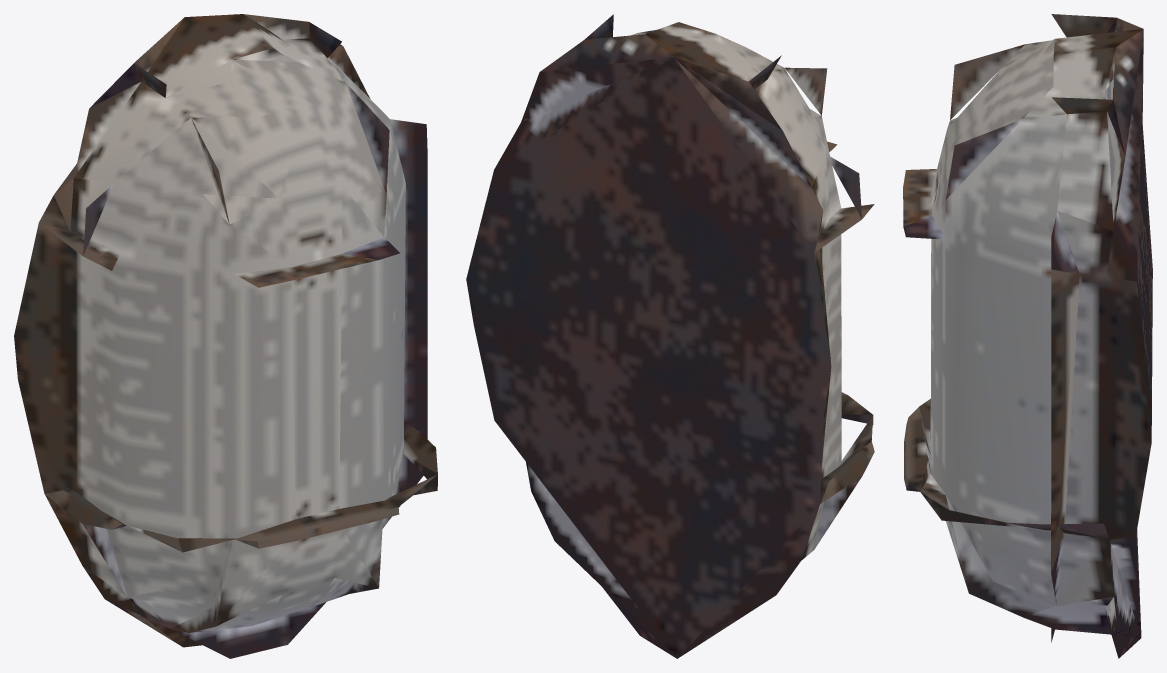
File: industrial_wall_lamp.glb
3 views of the same model, side by side, from view 1: azimuth 30°, elevation 25°; view 2: azimuth 150°, elevation 25°; view 3: azimuth 270°, elevation 25° (orthographic). The views are drawn at different scales.
Visible parts, largest first — view 1: mesh; view 2: mesh; view 3: mesh.
Part boxes in pixels (box(x1,y1,x2,y2)): mesh: box(14, 14, 437, 658); mesh: box(466, 14, 874, 658); mesh: box(903, 14, 1152, 658).
Size of the model in its own units: 0.271 by 0.4299 by 0.1588.
Materials: 1 (1 with a texture image).
